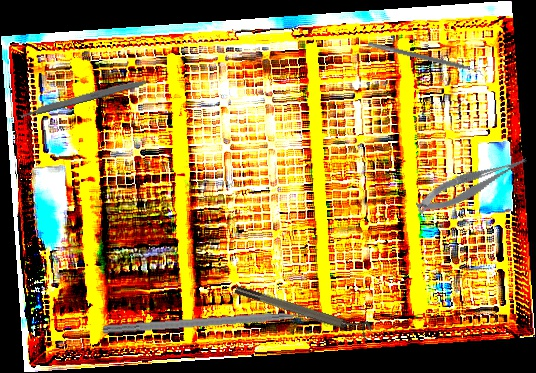Chopper: (101, 309, 329, 346)
Fixation Ring: (233, 277, 374, 342)
Micro Scissor: (411, 152, 534, 218)
Scalpel Handle: (19, 75, 150, 120)
Spatula Surgical: (366, 41, 487, 79)
